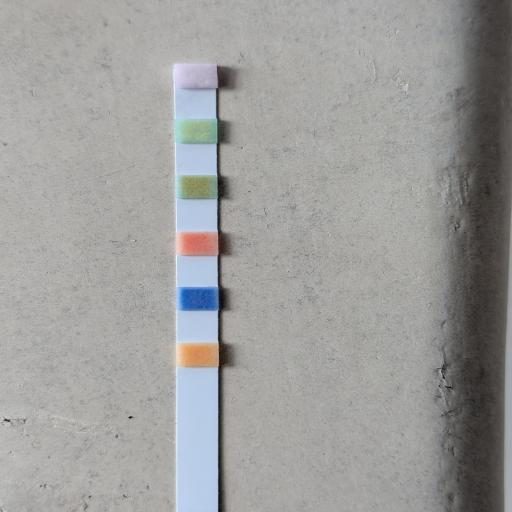strip: (174, 64, 219, 512)
